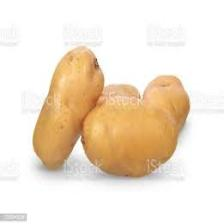Potato: (31, 44, 104, 172), (79, 90, 177, 184), (143, 73, 191, 131)
